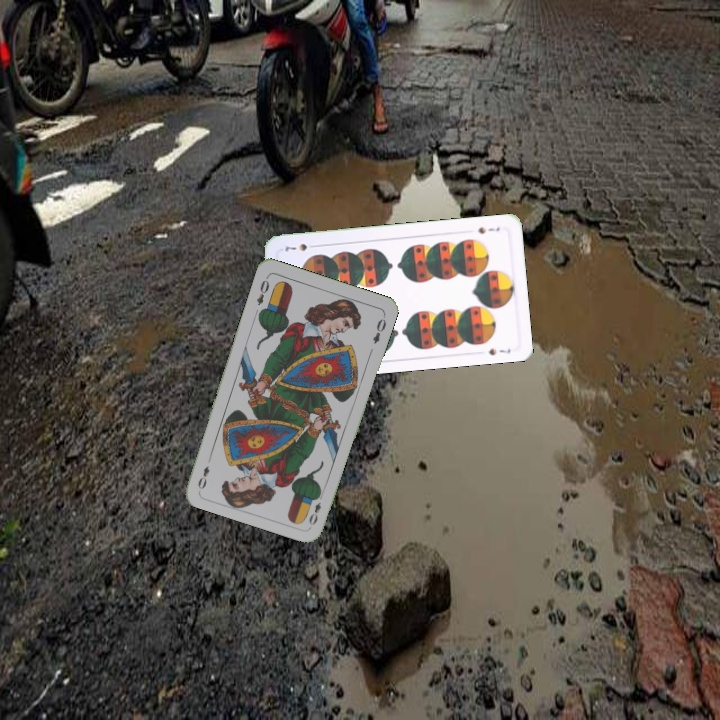EO: (305, 489, 326, 528), (253, 272, 272, 308)
S7: (474, 223, 502, 236)
